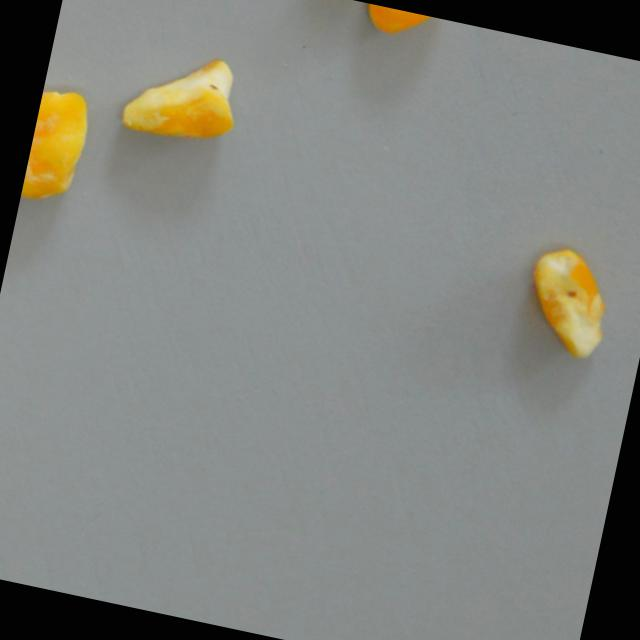dañado: (354, 1, 450, 47)
pelicula: (19, 85, 98, 209)
punto_negro: (115, 38, 247, 157), (511, 239, 631, 364)
